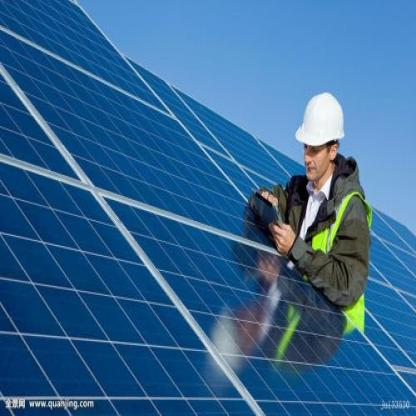helmet: (294, 80, 348, 189)
